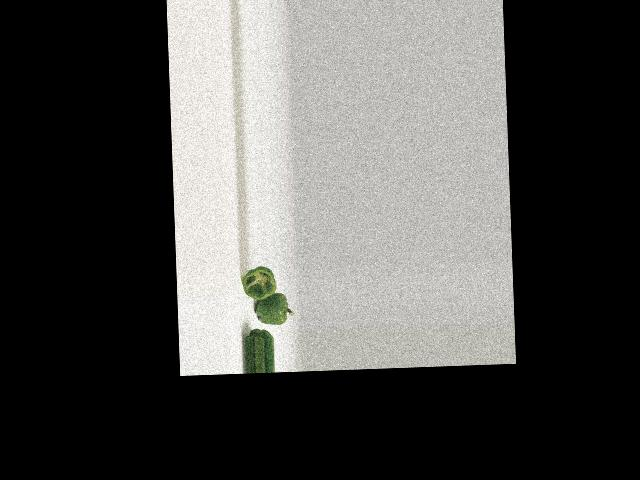bell_pepper: (239, 264, 280, 302)
